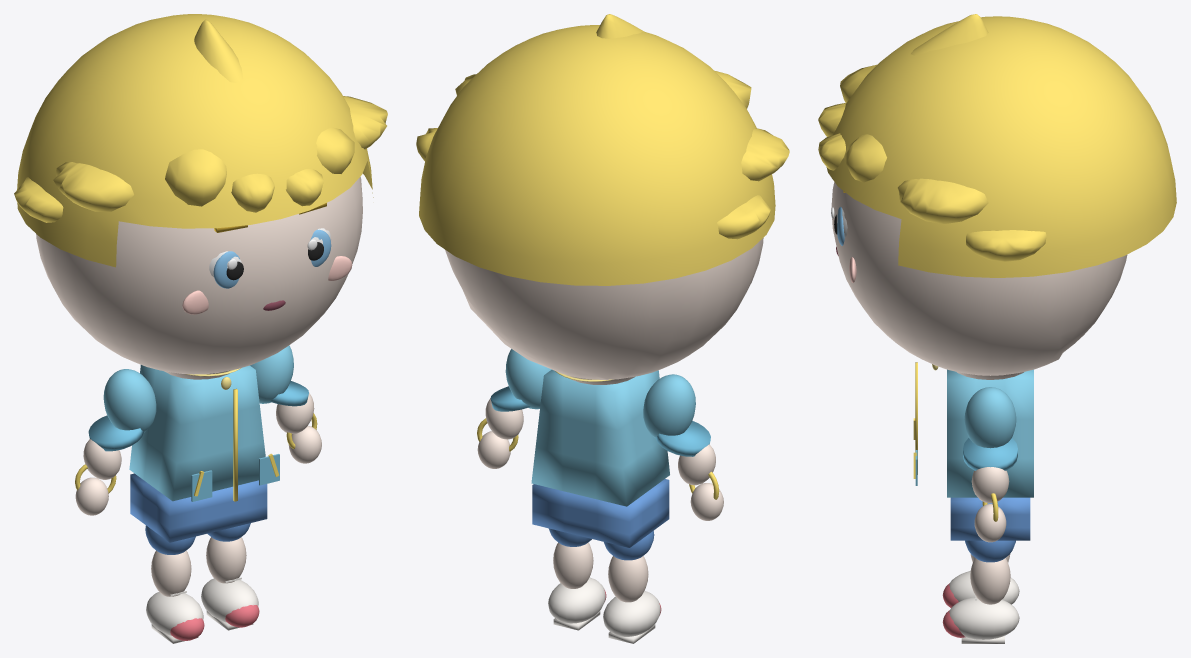
File: image_to_3d.glb
The picture shows the model from 3 angles, left to right: view 1: azimuth 30°, elevation 25°; view 2: azimuth 150°, elevation 25°; view 3: azimuth 270°, elevation 25°; orthographic projection.
Parts seen in each view (by area): view 1: Hair_Base, Head, Torso_Jacket, Shorts, Hair_Side_L1, Sleeve_L, Hair_Front_L, Shoe_R, Shoe_L, Hair_Top_Center, Sleeve_R, LowerLeg_R (+17 smaller); view 2: Hair_Base, Head, Torso_Jacket, Shorts, Sleeve_L, Shoe_R, Shoe_L, Hair_Side_L1, Sleeve_R, LowerLeg_R, LowerLeg_L, Hair_Side_L2 (+8 smaller); view 3: Hair_Base, Head, Torso_Jacket, Hair_Side_R1, Sleeve_R, Shorts, Shoe_R, Hair_Side_R2, LowerLeg_R, Hair_Front_R, Hair_Top_Center, SleeveCuff_R (+7 smaller).
Part boxes in pixels (box(x1,y1,x2,y2)): Hair_Base: box(17, 14, 373, 267); Head: box(36, 176, 362, 374); Torso_Jacket: box(129, 365, 265, 501); Shorts: box(130, 473, 267, 542); Hair_Side_L1: box(53, 162, 133, 211); Sleeve_L: box(103, 369, 156, 432); Hair_Front_L: box(165, 149, 226, 206); Shoe_R: box(201, 578, 258, 622); Shoe_L: box(146, 592, 203, 635); Hair_Top_Center: box(194, 19, 243, 83); Sleeve_R: box(250, 345, 293, 403); LowerLeg_R: box(206, 537, 246, 583); Hair_Base: box(419, 25, 775, 285); Head: box(445, 238, 763, 379); Torso_Jacket: box(531, 369, 669, 506); Shorts: box(532, 479, 669, 547); Sleeve_L: box(643, 374, 695, 437); Shoe_R: box(548, 577, 605, 623); Shoe_L: box(603, 591, 660, 636); Hair_Side_L1: box(741, 128, 789, 181); Sleeve_R: box(505, 349, 551, 409); LowerLeg_R: box(553, 542, 593, 588); LowerLeg_L: box(608, 556, 648, 602); Hair_Side_L2: box(717, 194, 770, 239); Hair_Base: box(826, 16, 1176, 277); Head: box(831, 182, 1127, 375); Torso_Jacket: box(947, 369, 1033, 497); Hair_Side_R1: box(897, 178, 988, 223); Sleeve_R: box(964, 387, 1016, 448); Shorts: box(950, 497, 1030, 540); Shoe_R: box(949, 597, 1019, 639); Hair_Side_R2: box(966, 230, 1046, 261); LowerLeg_R: box(970, 558, 1010, 604); Hair_Front_R: box(844, 134, 886, 182); Hair_Top_Center: box(911, 14, 988, 55); SleeveCuff_R: box(963, 438, 1017, 470).
Size of what is drawn, in the model's own units: 2.73 by 4.66 by 2.48.
